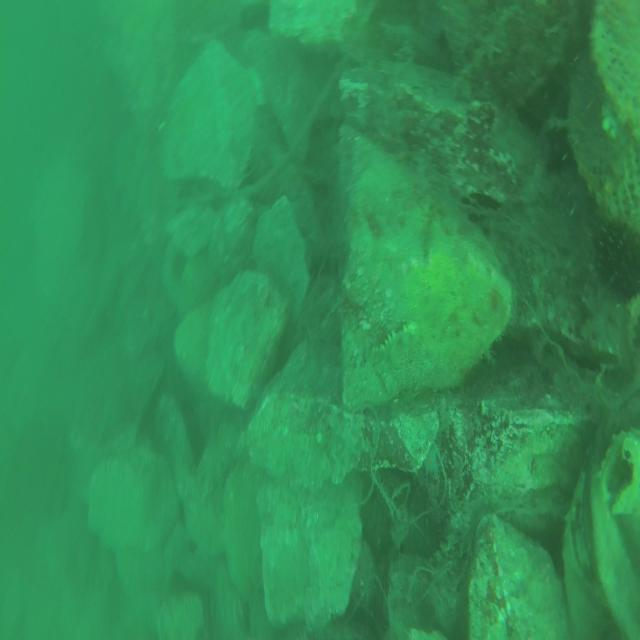echinus: (593, 218, 640, 302)
holothurian: (463, 136, 521, 207), (371, 322, 417, 368)
